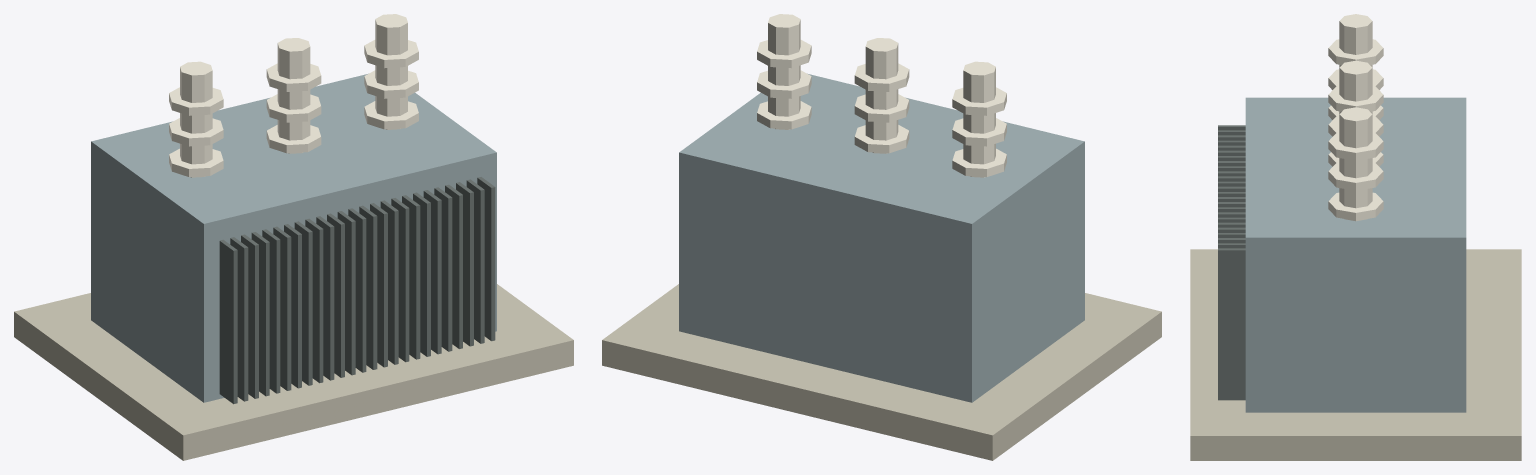
Rendered from transformer.glb.
The picture shows the model from 3 angles, left to right: view 1: azimuth 30°, elevation 25°; view 2: azimuth 150°, elevation 25°; view 3: azimuth 270°, elevation 25°; orthographic projection. The views are drawn at different scales.
Size of the model in its own units: 8 by 6 by 6.
